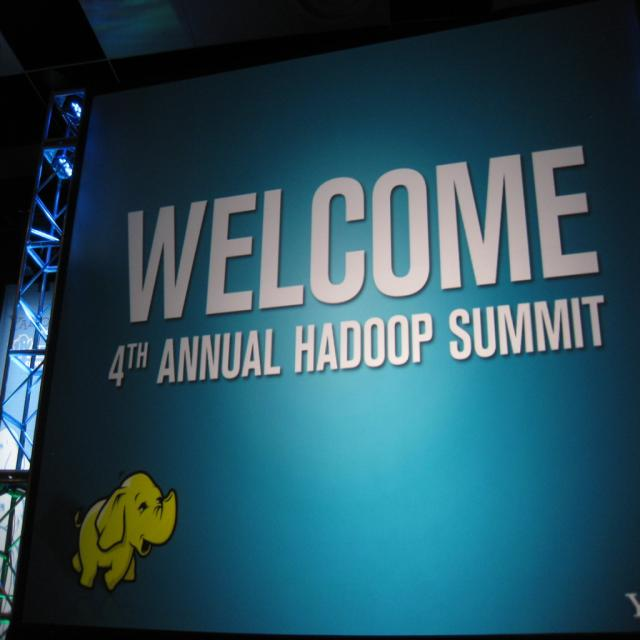elephant: (72, 473, 176, 585)
